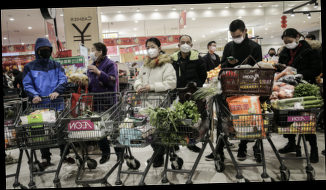with_mask: (145, 44, 159, 60), (281, 38, 299, 50), (230, 33, 246, 46), (179, 40, 192, 55), (39, 45, 52, 60), (89, 46, 99, 62), (209, 43, 219, 53), (268, 50, 276, 58), (7, 73, 13, 79), (133, 64, 138, 69), (4, 72, 8, 77)
